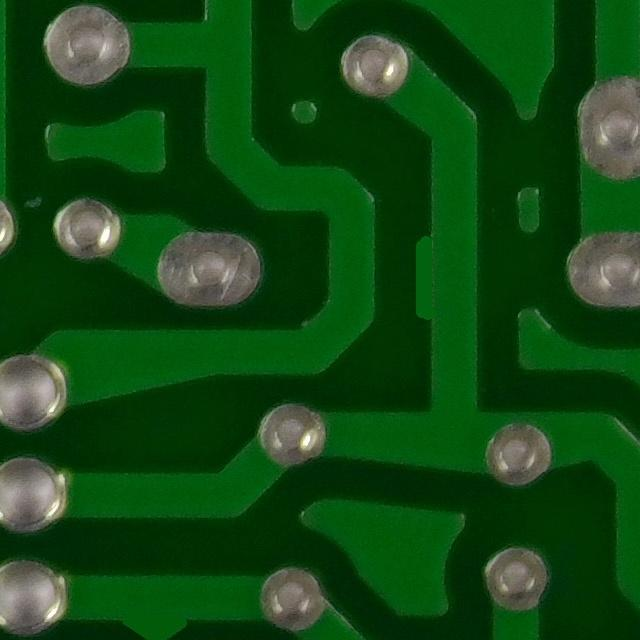spur: (408, 215, 463, 345), (115, 599, 204, 640)
